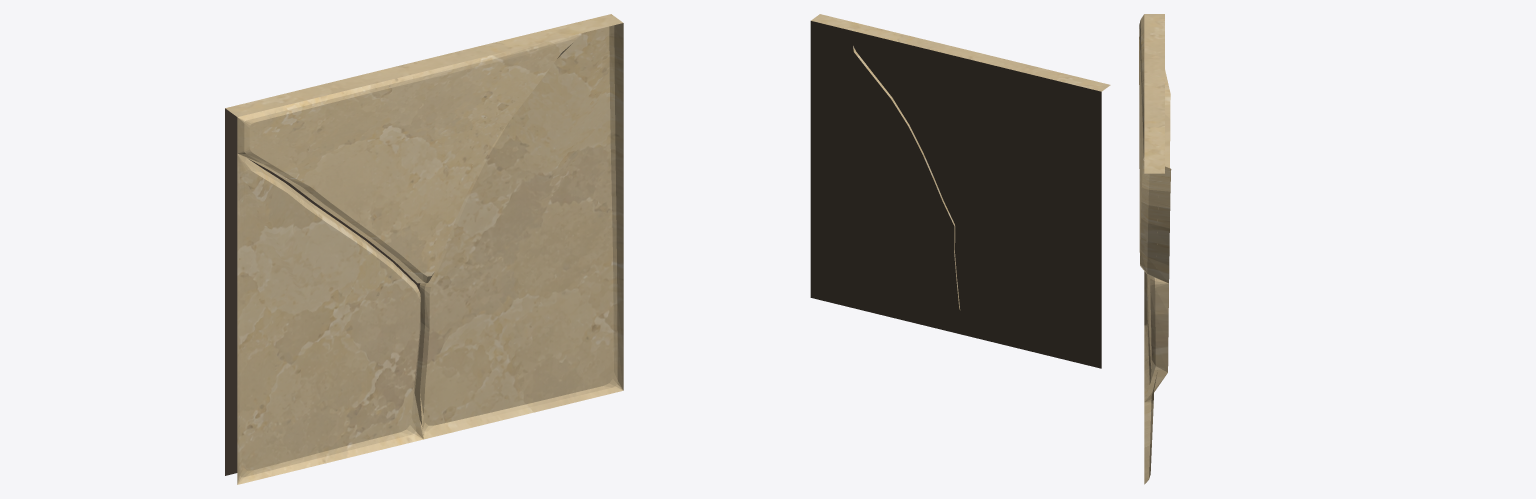
File: ground_edge_01.glb
The picture shows the model from 3 angles, left to right: view 1: azimuth 30°, elevation 25°; view 2: azimuth 150°, elevation 25°; view 3: azimuth 270°, elevation 25°; orthographic projection. The views are drawn at different scales.
Parts seen in each view (by area): view 1: GroundEdge01_Body; view 2: GroundEdge01_Body; view 3: GroundEdge01_Body.
Boxes of the visible parts, <box> form: GroundEdge01_Body: <box>225,14,623,484</box>; GroundEdge01_Body: <box>810,14,1110,368</box>; GroundEdge01_Body: <box>1139,14,1171,484</box>.
Size of the model in its own units: 1 by 0.91 by 1.01.
5 materials, 4 textured.
